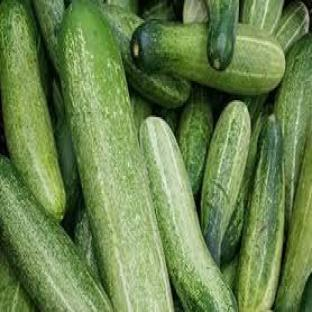Cucumber: (60, 2, 172, 311), (141, 118, 236, 311), (0, 159, 112, 311), (132, 21, 285, 94), (236, 116, 285, 311), (100, 4, 190, 108), (200, 102, 251, 263), (275, 35, 311, 230), (222, 114, 267, 263), (275, 132, 311, 311), (178, 85, 213, 194), (53, 82, 79, 213), (0, 247, 34, 311), (75, 197, 99, 280), (131, 92, 152, 132), (244, 94, 268, 127), (155, 107, 179, 132), (222, 254, 239, 289), (300, 275, 311, 311)
